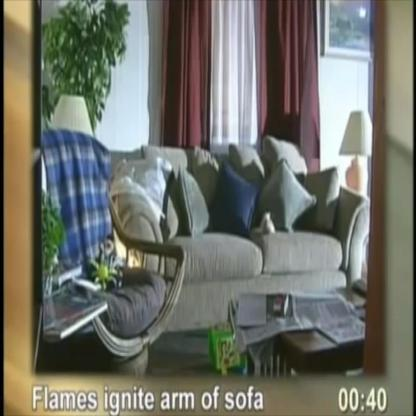fire: (112, 227, 142, 272)
